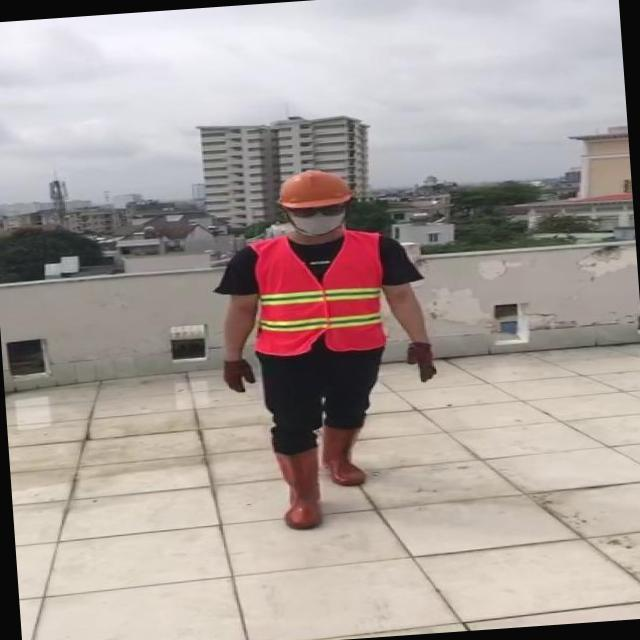boots: (274, 448, 328, 534), (318, 418, 369, 488)
helmet: (270, 164, 358, 211)
vest: (243, 229, 386, 359)
